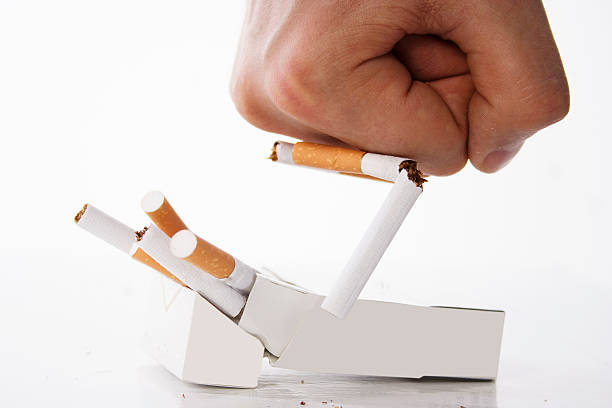cigarette: (144, 262, 507, 389), (319, 167, 425, 321), (134, 221, 248, 318), (168, 227, 261, 293), (290, 141, 422, 184), (69, 190, 138, 255), (126, 243, 188, 287), (139, 188, 190, 240), (266, 138, 292, 168)
